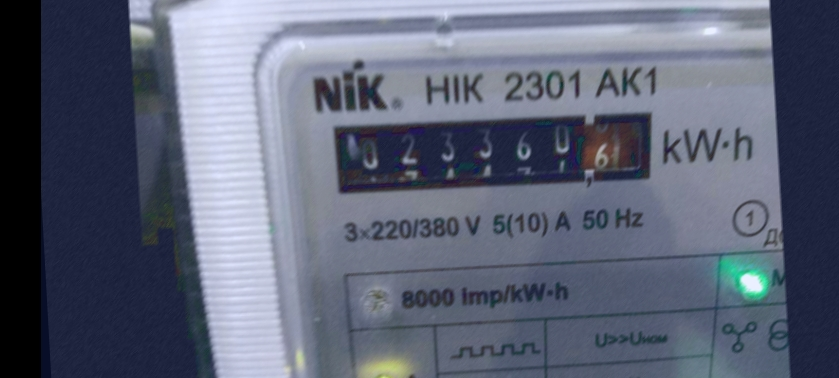0: (355, 133, 379, 170), (548, 119, 572, 155)
2: (395, 129, 418, 165)
3: (434, 127, 456, 163), (473, 124, 493, 159)
6: (510, 125, 532, 160), (589, 136, 609, 170)
screen: (317, 94, 673, 213)
